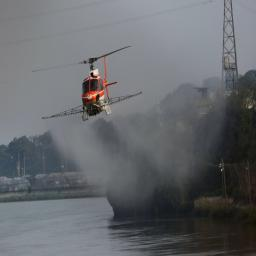helicopter: (41, 44, 137, 131)
